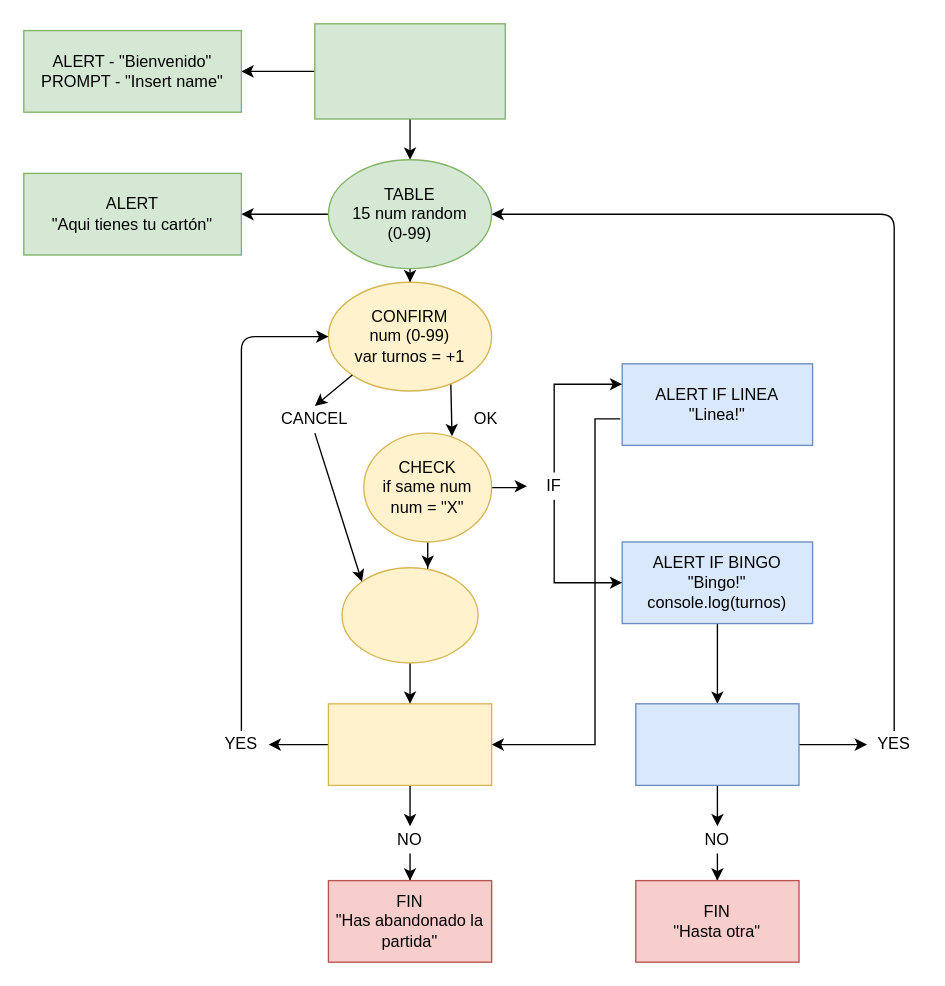
Image size: 945x986. Some labels were removed from this diagram. The shapes that lost their labels are listed below. From the top down, each one's box as (x1, y1, x2, y2) in pixels, then its label:
(313, 22, 505, 119): BINGO
(341, 566, 478, 663): CONSOLE.LOG table
(327, 702, 492, 785): PROMPT Y/N "Quieres seguir jugando?"
(634, 702, 799, 785): PROMPT Y/N "Quieres volver a jugar?"
